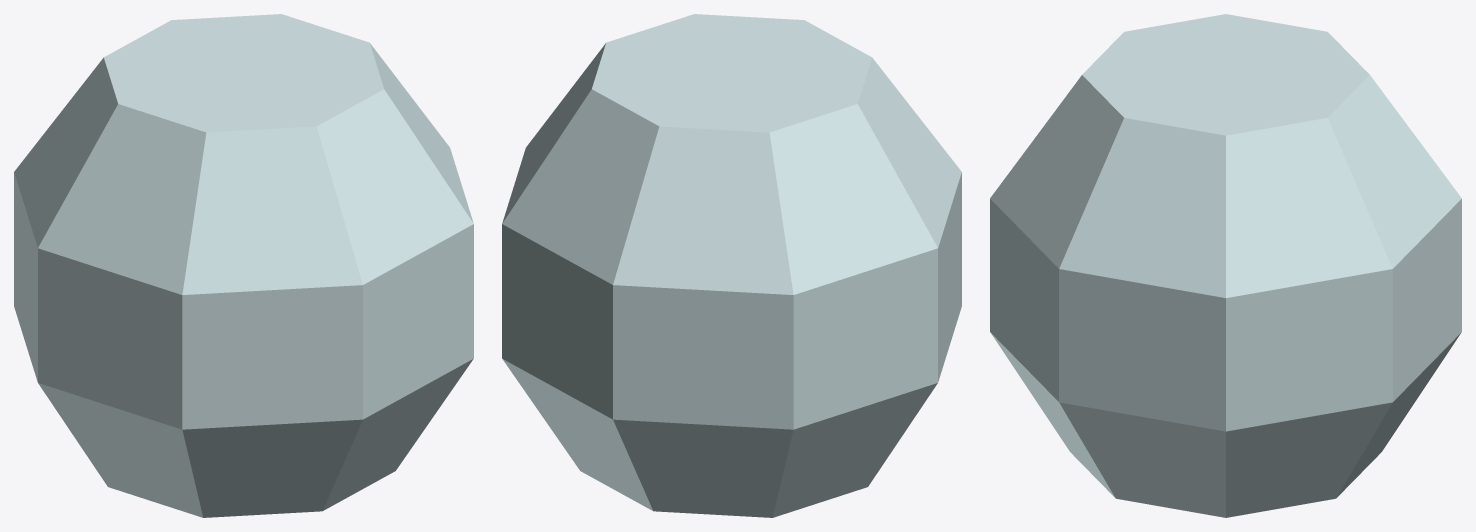
File: stone_small8.glb
3 renders of one model, left to right at view 1: azimuth 30°, elevation 25°; view 2: azimuth 150°, elevation 25°; view 3: azimuth 270°, elevation 25°, orthographic.
Visible parts, largest first — view 1: stone_small8; view 2: stone_small8; view 3: stone_small8.
Boxes of the visible parts, box(x1,y1,x2,y2) form: stone_small8: box(14, 14, 473, 517); stone_small8: box(502, 14, 961, 517); stone_small8: box(990, 14, 1461, 517).
Size of the model in its own units: 0.4618 by 0.4074 by 0.4618.
